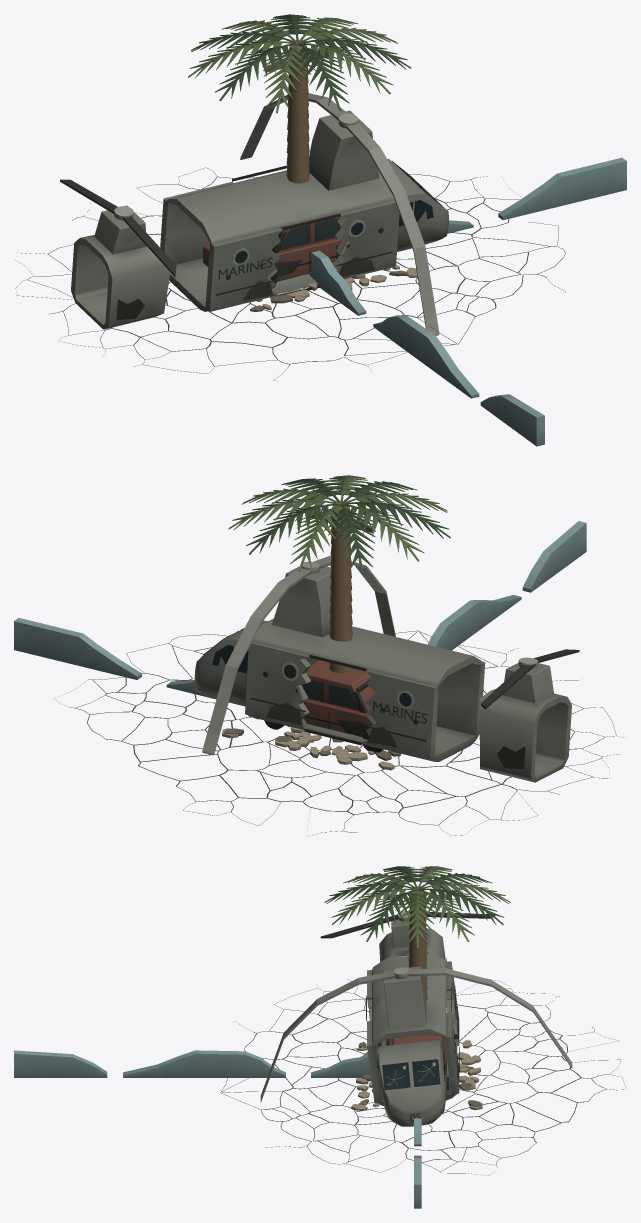
Rendered from crash.glb.
The picture shows the model from 3 angles, top to bottom: view 1: azimuth 30°, elevation 25°; view 2: azimuth 150°, elevation 25°; view 3: azimuth 270°, elevation 25°; orthographic projection. The views are drawn at different scales.
Visible parts, largest first — view 1: helicopter, palm-crown, blue-edge-east, impact-cracks, blue-edge-south, abandoned-car, palm-trunk, burned-car; view 2: helicopter, palm-crown, impact-cracks, blue-edge-east, blue-edge-south, abandoned-car, palm-trunk, burned-car, impact-scatter-37, impact-scatter-23; view 3: helicopter, palm-crown, blue-edge-east, impact-cracks, palm-trunk, blue-edge-south, impact-scatter-23, abandoned-car.
Boxes of the visible parts, bbox=[...] form: helicopter: bbox=[60, 93, 448, 335]; palm-crown: bbox=[188, 14, 411, 113]; blue-edge-east: bbox=[309, 250, 544, 446]; impact-cracks: bbox=[15, 167, 565, 381]; blue-edge-south: bbox=[447, 157, 626, 233]; abandoned-car: bbox=[203, 213, 342, 287]; palm-trunk: bbox=[286, 45, 309, 183]; burned-car: bbox=[203, 218, 341, 281]; helicopter: bbox=[194, 555, 579, 782]; palm-crown: bbox=[228, 475, 450, 573]; impact-cracks: bbox=[56, 630, 625, 836]; blue-edge-east: bbox=[428, 521, 586, 650]; blue-edge-south: bbox=[14, 618, 244, 706]; abandoned-car: bbox=[264, 660, 383, 753]; palm-trunk: bbox=[329, 505, 353, 673]; burned-car: bbox=[271, 679, 375, 748]; impact-scatter-37: bbox=[275, 726, 391, 761]; impact-scatter-23: bbox=[222, 717, 394, 770]; helicopter: bbox=[260, 911, 572, 1126]; palm-crown: bbox=[324, 866, 510, 948]; blue-edge-east: bbox=[14, 1050, 378, 1077]; impact-cracks: bbox=[220, 978, 626, 1175]; palm-trunk: bbox=[408, 890, 427, 1001]; blue-edge-south: bbox=[414, 1118, 421, 1208]; impact-scatter-23: bbox=[358, 1040, 482, 1110]; abandoned-car: bbox=[386, 1034, 448, 1089].
Bounding box in the file's own units: 17.83 × 6.99 × 19.55.
